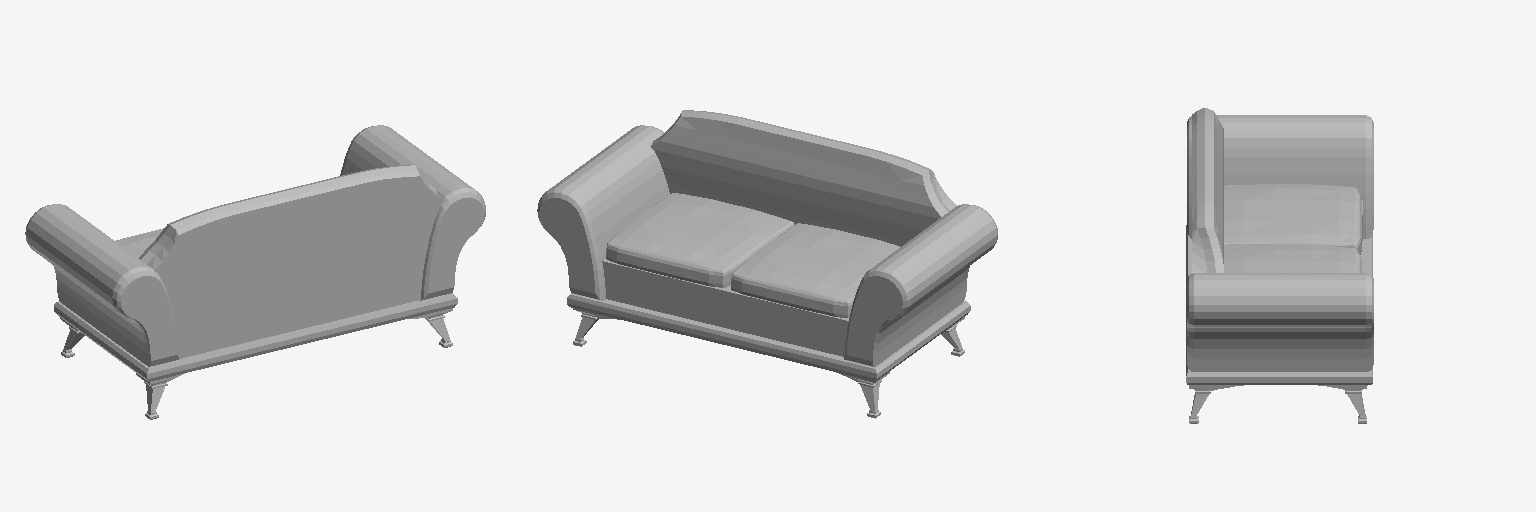
Rendered from sofa.obj.
3 views of the same model, side by side, from view 1: azimuth 30°, elevation 25°; view 2: azimuth 150°, elevation 25°; view 3: azimuth 270°, elevation 25° (orthographic).
Parts seen in each view (by area): view 1: mesh; view 2: mesh; view 3: mesh.
Boxes of the visible parts, x1,y1,x2,y2 form: mesh: [25, 125, 485, 419]; mesh: [537, 110, 997, 418]; mesh: [1186, 108, 1373, 423].
Bounding box in the file's own units: 107 × 51.97 × 46.84.